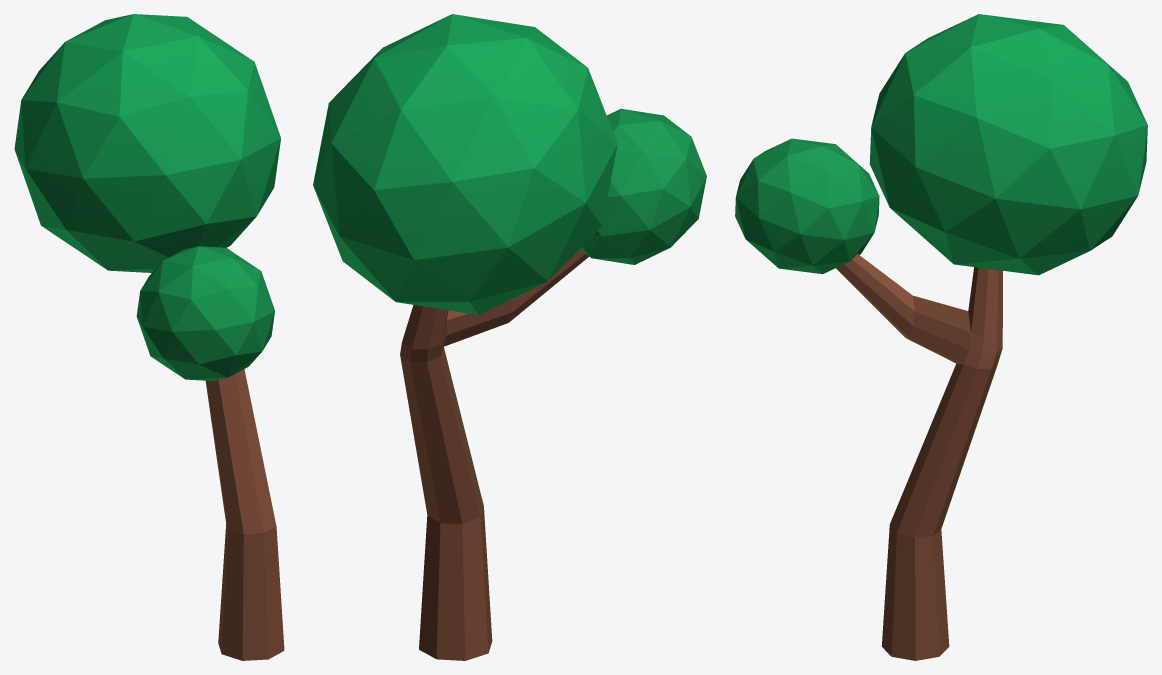
Rendered from Tree_02_gradient_green_vc.fbx.
The picture shows the model from 3 angles, left to right: view 1: azimuth 30°, elevation 25°; view 2: azimuth 150°, elevation 25°; view 3: azimuth 270°, elevation 25°; orthographic projection. The views are drawn at different scales.
Visible parts, largest first — view 1: Tree_02_gradient_green_vc; view 2: Tree_02_gradient_green_vc; view 3: Tree_02_gradient_green_vc.
Part boxes in pixels (<box>): Tree_02_gradient_green_vc: <box>14,14,284,660</box>; Tree_02_gradient_green_vc: <box>313,14,706,660</box>; Tree_02_gradient_green_vc: <box>735,14,1147,660</box>.
Size of the model in its own units: 71.42 by 177 by 112.
